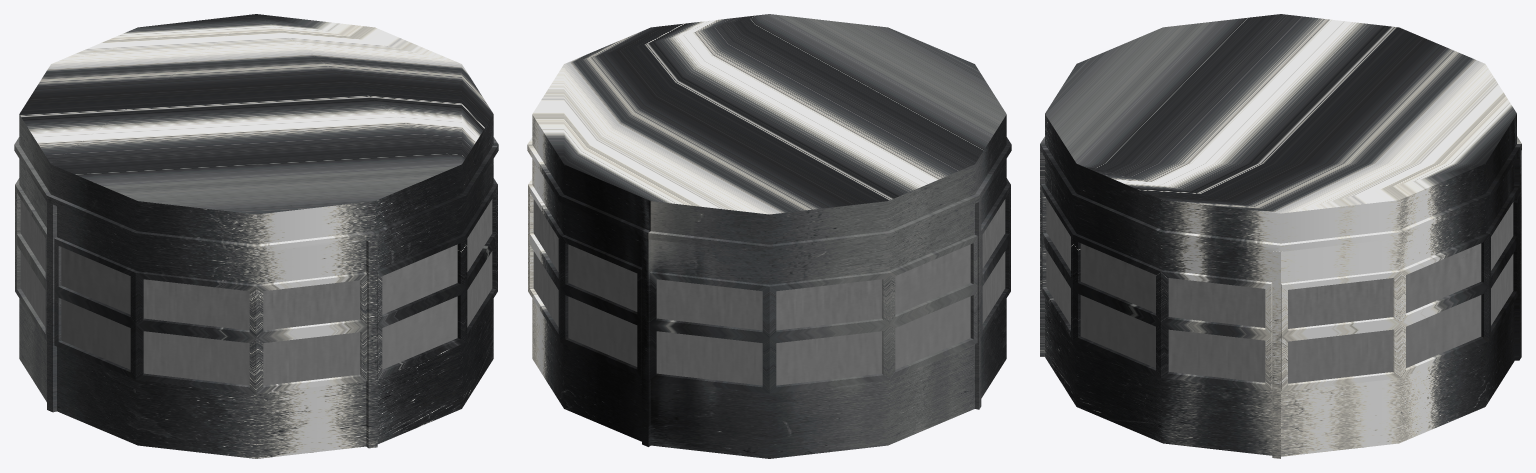
The model's file is 경비실.fbx.
3 renders of one model, left to right at view 1: azimuth 30°, elevation 25°; view 2: azimuth 150°, elevation 25°; view 3: azimuth 270°, elevation 25°, orthographic.
Parts seen in each view (by area): view 1: Cylinder001, Object002; view 2: Cylinder001, Object002; view 3: Cylinder001, Object002.
Part boxes in pixels (x1=…): Cylinder001: x1=14, y1=14, x2=498, y2=458; Object002: x1=20, y1=199, x2=492, y2=385; Cylinder001: x1=527, y1=14, x2=1011, y2=458; Object002: x1=533, y1=199, x2=1005, y2=385; Cylinder001: x1=1040, y1=14, x2=1521, y2=458; Object002: x1=1046, y1=198, x2=1513, y2=383.
Bounding box in the file's own units: 107 × 107 × 59.52.
2 materials, 2 textured.
